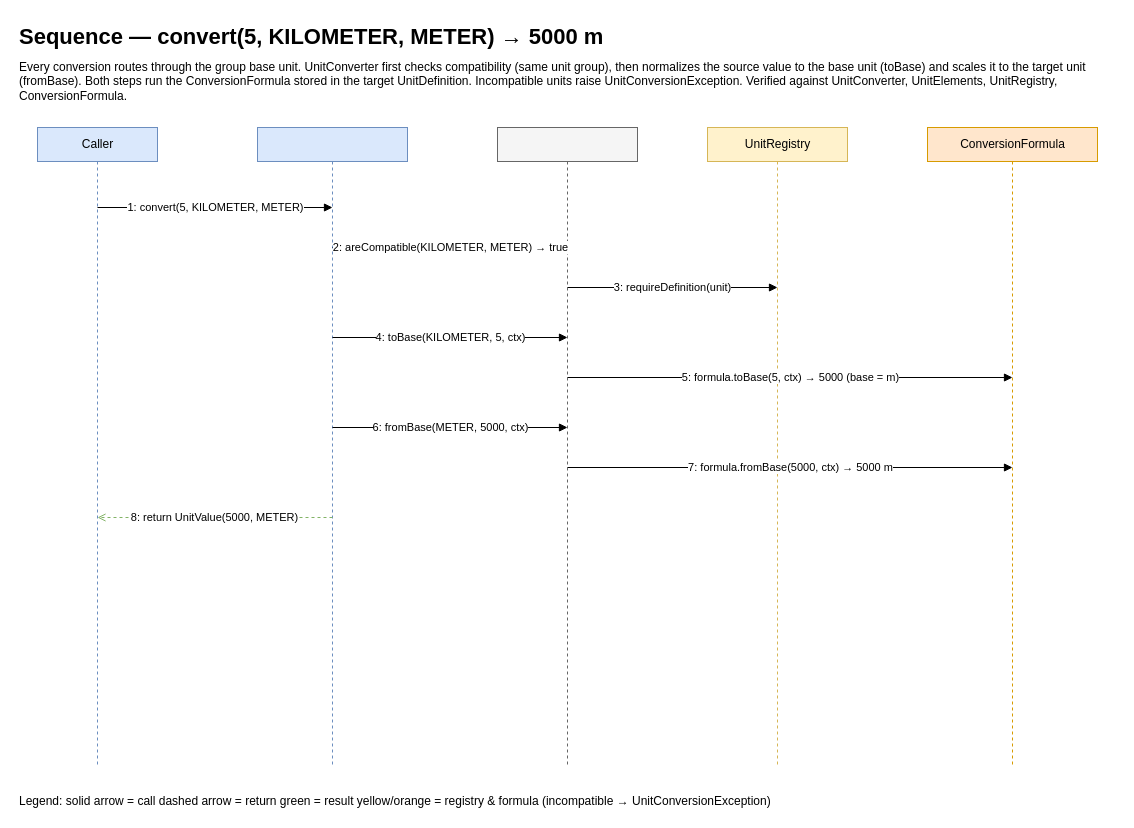
This 1134x828 diagram has some shape labels left out. Here are the shapes that lost their labels. From the top down, the box of each, then its label:
(256, 126, 408, 768): UnitConverter
(496, 126, 638, 768): UnitElements
